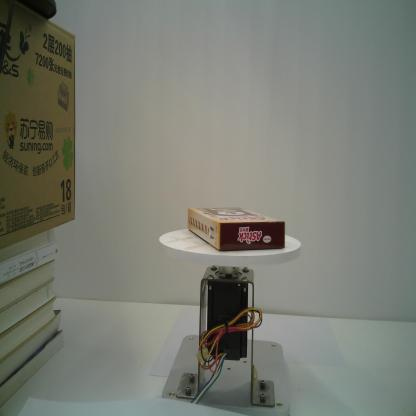Dessert: (188, 208, 285, 250)
